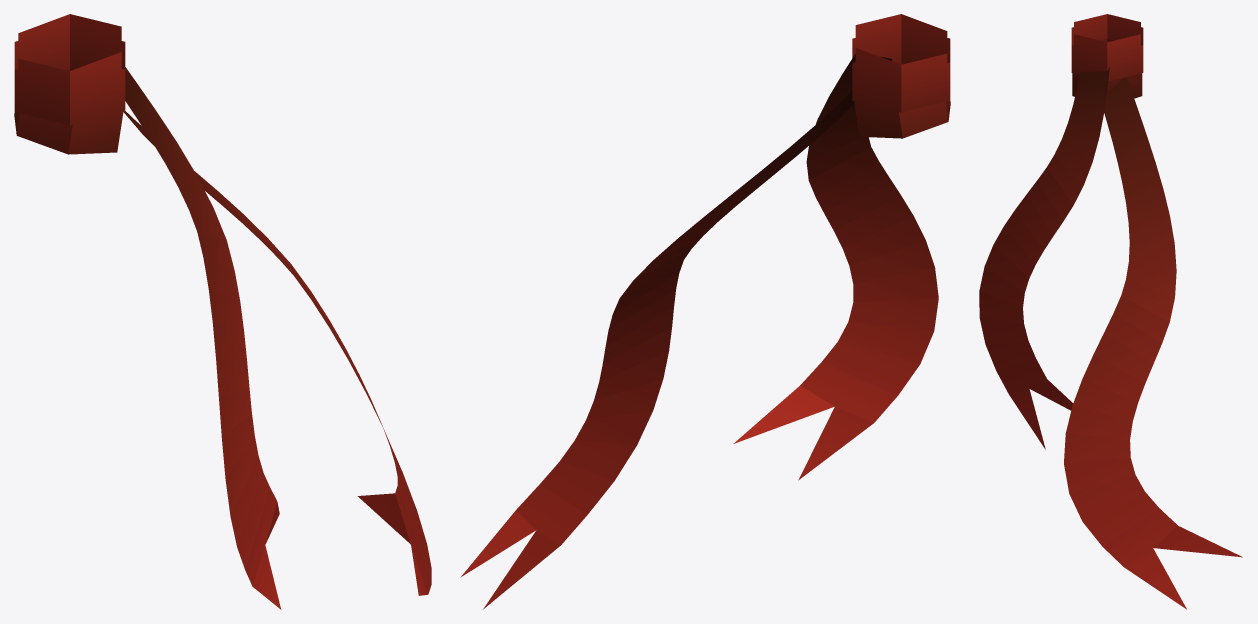
The model's file is ribon.fbx.
The picture shows the model from 3 angles, left to right: view 1: azimuth 30°, elevation 25°; view 2: azimuth 150°, elevation 25°; view 3: azimuth 270°, elevation 25°; orthographic projection. The views are drawn at different scales.
Parts seen in each view (by area): view 1: ribon; view 2: ribon; view 3: ribon.
Part boxes in pixels (x1,y1,x2,y2): ribon: [14, 14, 431, 609]; ribon: [460, 14, 950, 609]; ribon: [979, 14, 1242, 609].
Size of the model in its own units: 33.5 by 48.24 by 25.42.
